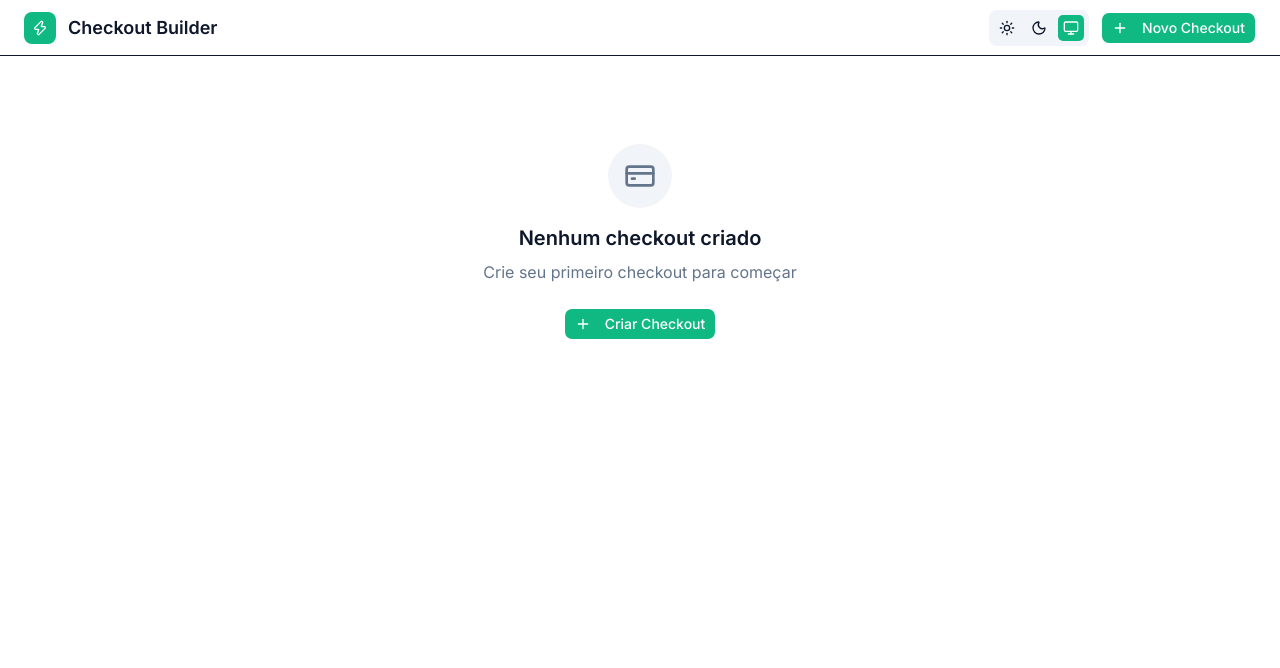
Scenario: Dashboard: dialog Criar checkout › abre com contraste nos campos e cria navegando para o editor
Click the button "Novo Checkout" at (1179, 28), box [1101, 12, 1256, 44]
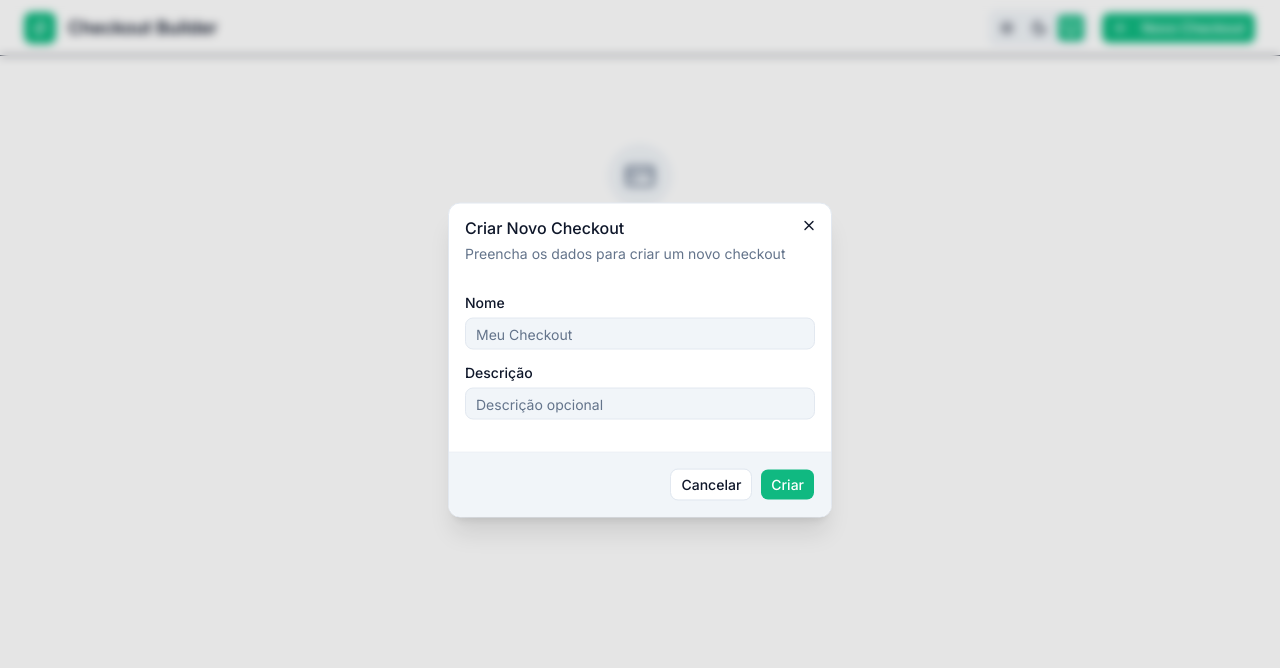
Expected: the heading "Criar Novo Checkout" is shown, [465, 218, 624, 238]
Type "Checkout de Teste" into the field labelled "Nome" at (640, 334), box [465, 318, 815, 350]
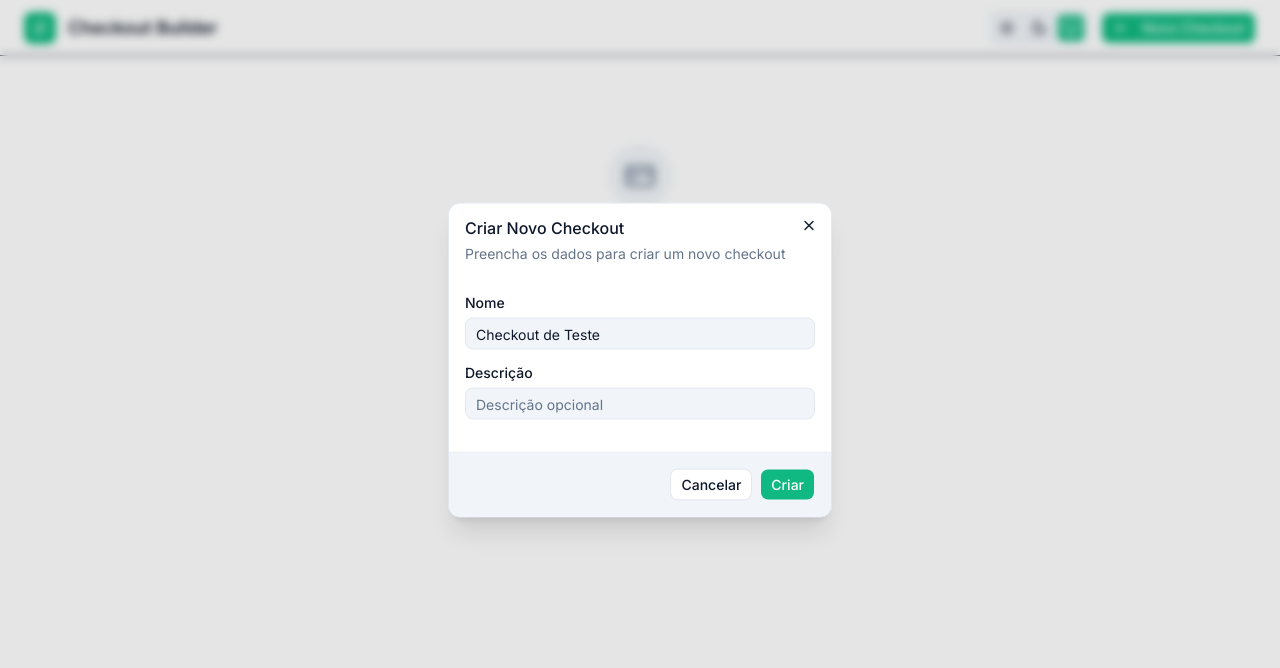
Click the button "Criar" at (788, 484), box [760, 468, 815, 500]
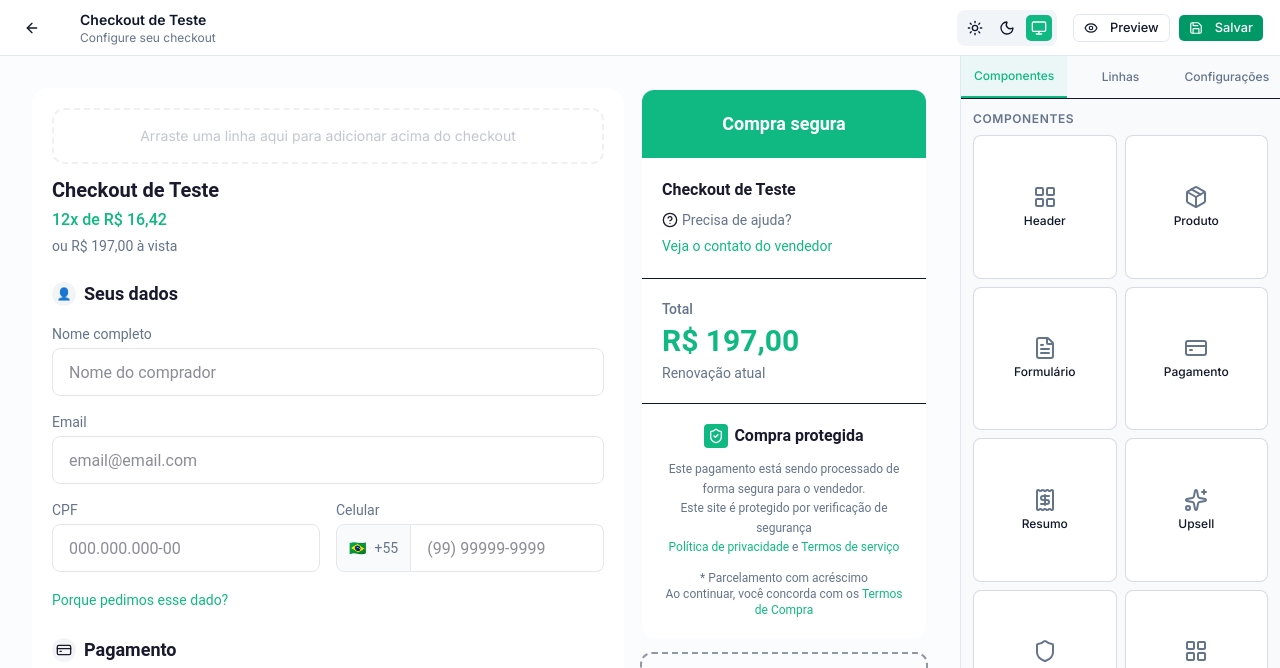
Expected: the 1st heading "Checkout de Teste" is shown, [80, 10, 206, 28]
